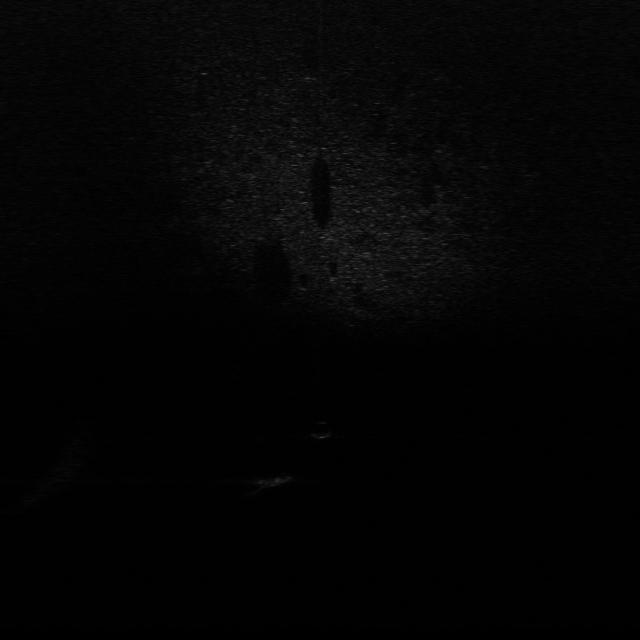ball: (308, 417, 339, 440)
square cage: (248, 468, 298, 491)
